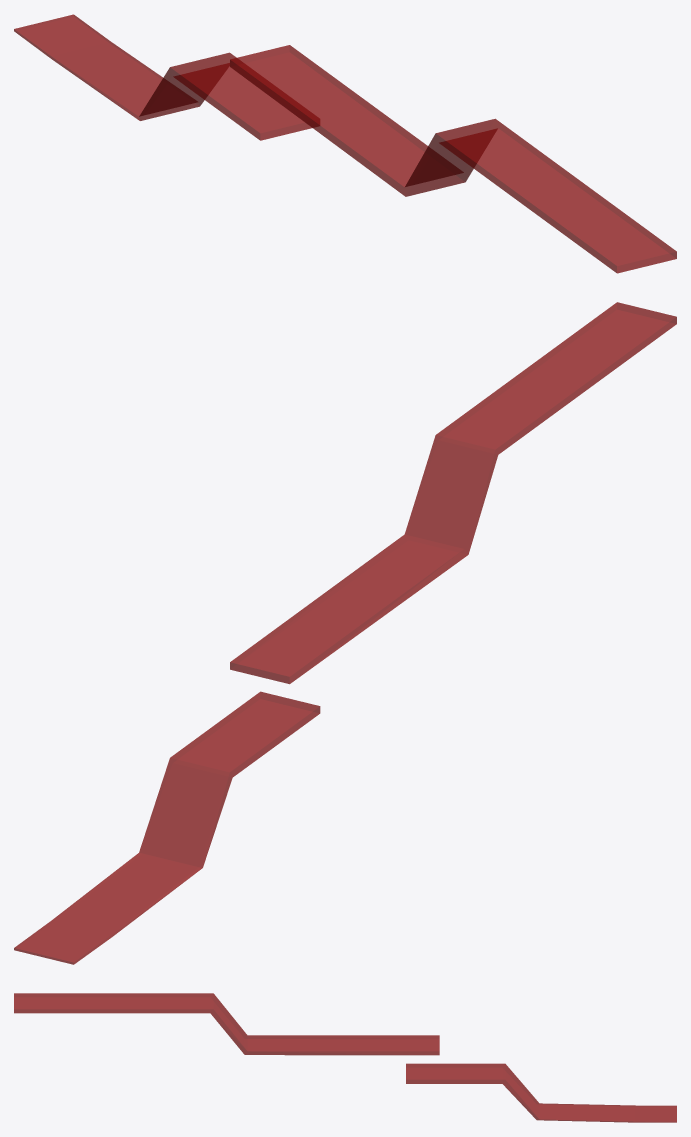
The model's file is _death_plane.obj.
3 views of the same model, one above another, from view 1: azimuth 30°, elevation 25°; view 2: azimuth 150°, elevation 25°; view 3: azimuth 270°, elevation 25° (orthographic). The views are drawn at different scales.
Bounding box in the file's own units: 69.39 × 223 × 1182.
